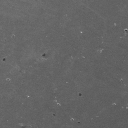corrosion: (41, 52, 47, 58), (78, 92, 83, 97), (69, 117, 74, 122), (2, 57, 6, 62), (80, 31, 82, 34)
